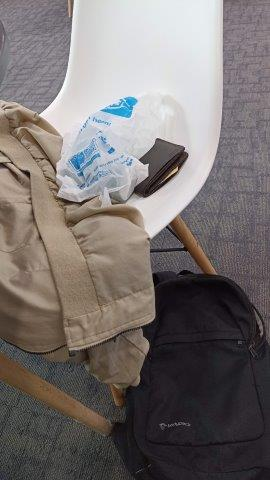plastik: (57, 94, 172, 208)
